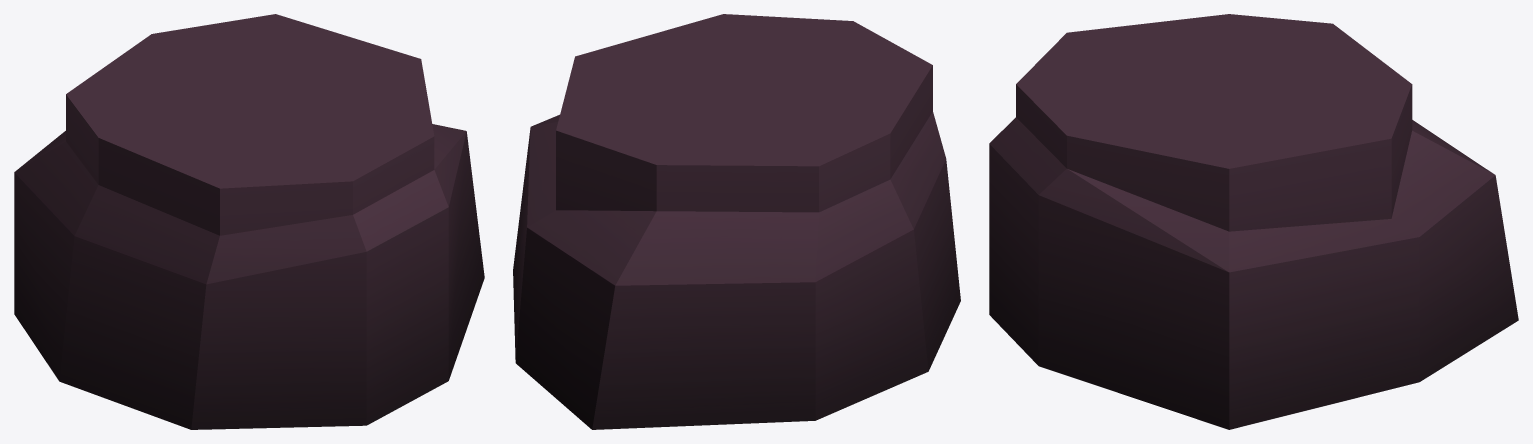
Rendered from SM_Stone_2_Flat_rock_3.fbx.
3 views of the same model, side by side, from view 1: azimuth 30°, elevation 25°; view 2: azimuth 150°, elevation 25°; view 3: azimuth 270°, elevation 25° (orthographic). The views are drawn at different scales.
Parts seen in each view (by area): view 1: Stone_2:Flat_rock_3; view 2: Stone_2:Flat_rock_3; view 3: Stone_2:Flat_rock_3.
Boxes of the visible parts, x1,y1,x2,y2 form: Stone_2:Flat_rock_3: (14, 14, 484, 429); Stone_2:Flat_rock_3: (513, 14, 960, 429); Stone_2:Flat_rock_3: (989, 14, 1518, 429).
Bounding box in the file's own units: 422 × 222 × 463.
Materials: 1 (1 with a texture image).
